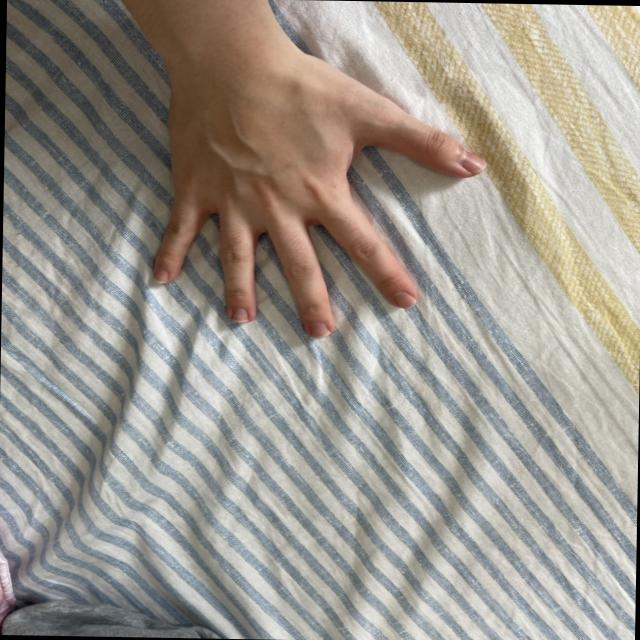Nail: (458, 149, 485, 172), (392, 291, 415, 308), (309, 323, 330, 338), (231, 307, 247, 323), (153, 270, 167, 283)
